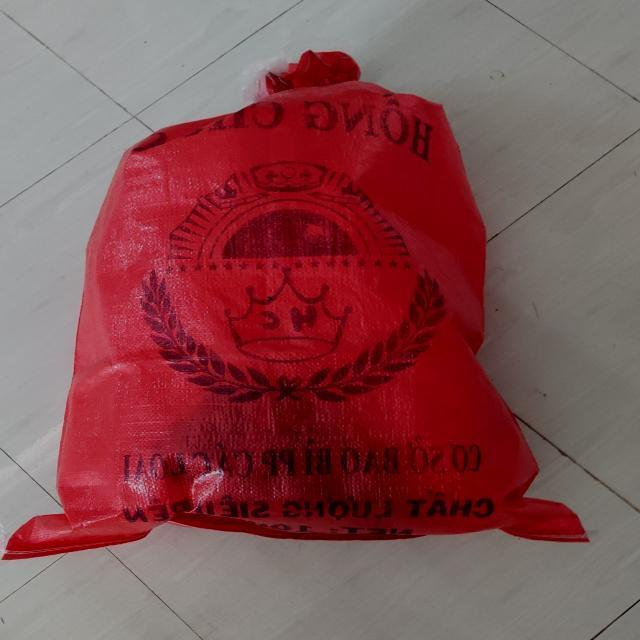gunny_bag: (5, 57, 585, 560)
